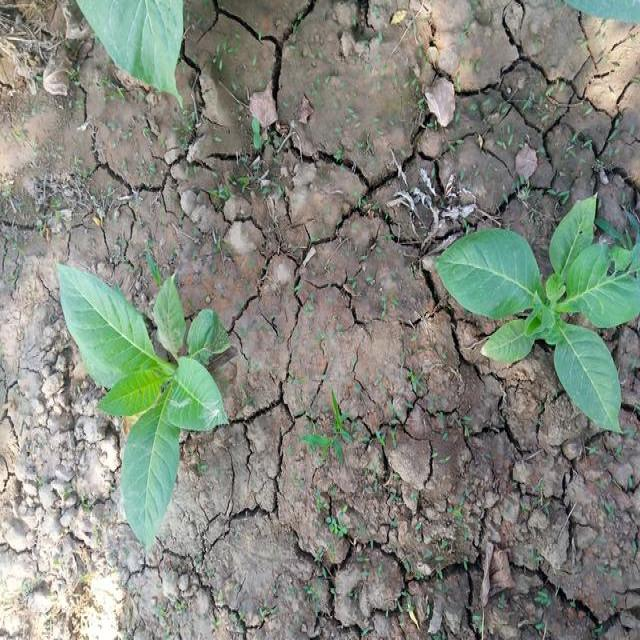crop: (54, 256, 235, 552), (435, 186, 640, 431)
